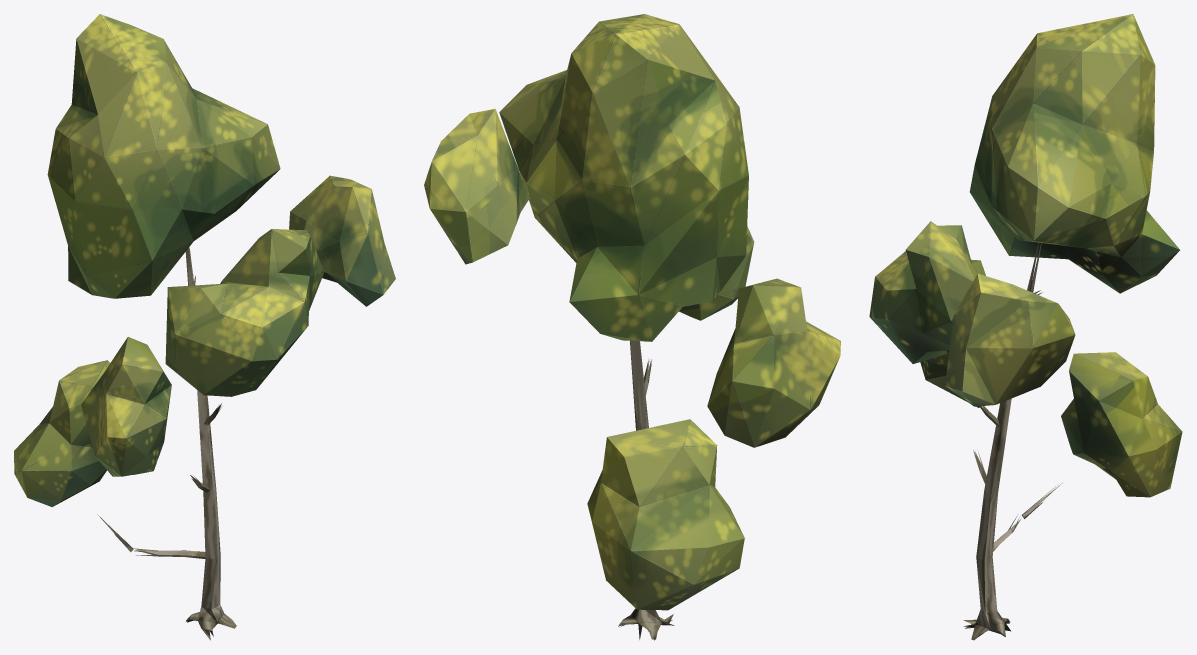
Rendered from Elm_001.glb.
3 renders of one model, left to right at view 1: azimuth 30°, elevation 25°; view 2: azimuth 150°, elevation 25°; view 3: azimuth 270°, elevation 25°, orthographic. The views are drawn at different scales.
Visible parts, largest first — view 1: Icosphere.001_mat.tree-elm_0; view 2: Icosphere.001_mat.tree-elm_0; view 3: Icosphere.001_mat.tree-elm_0.
Boxes of the visible parts, left/top/right/bottom form: Icosphere.001_mat.tree-elm_0: left=14, top=14, right=395, bottom=640; Icosphere.001_mat.tree-elm_0: left=424, top=14, right=840, bottom=640; Icosphere.001_mat.tree-elm_0: left=869, top=14, right=1182, bottom=640.
Size of the model in its own units: 1.03 by 1.83 by 0.8651.
1 material, 1 textured.
